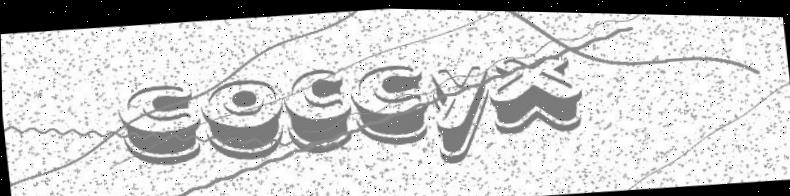c: (116, 79, 205, 169), (348, 59, 432, 148), (282, 63, 355, 155)
o: (198, 73, 289, 163)
x: (486, 48, 587, 136)
y: (427, 60, 495, 167)
